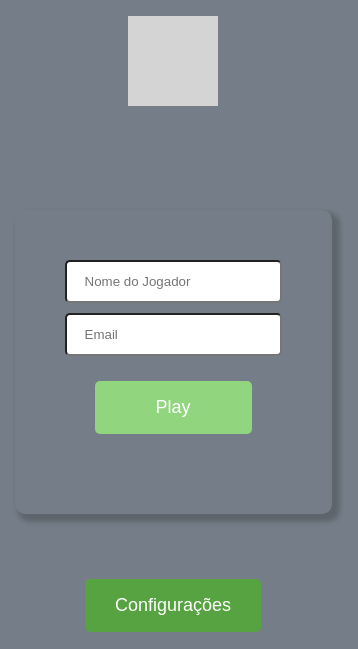
Test: Testando as configurações do componente Login › Testando se os botões dos componentes redirecionam corretamente
The width and height of the screenshot is (358, 649).
Expected: the button with test id "btn-play" is disabled, [94,381,252,434]
Type "Nome" into the field with test id "input-player-name" at (173, 282), box [64,260,282,303]
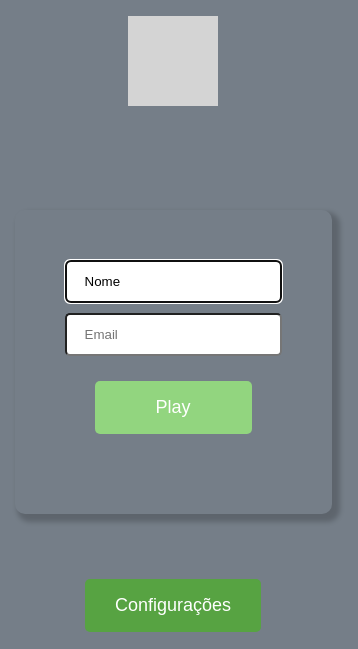
Expected: the button with test id "btn-play" is disabled, [94,381,252,434]
Type "trivia@trybe.com" into the field with test id "input-gravatar-email" at (173, 334), box [64,313,282,356]
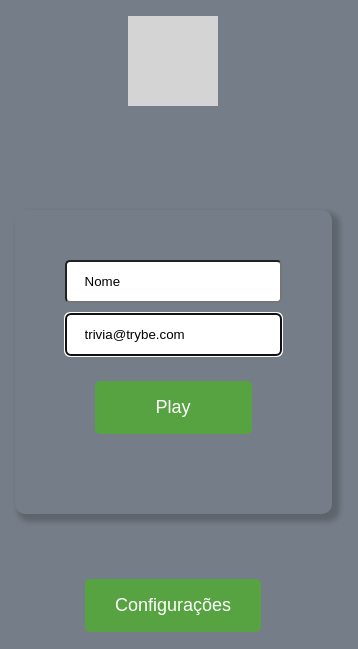
Now the button with test id "btn-play" is enabled, box [94,381,252,434]
